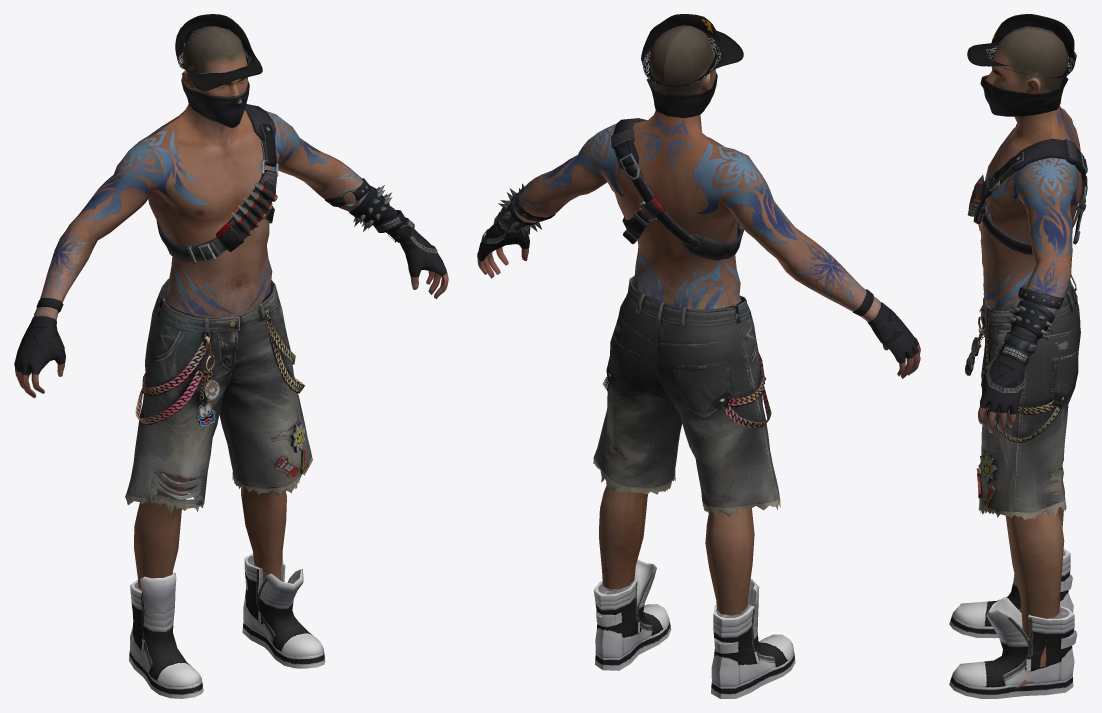
Rendered from rboy.glb.
The picture shows the model from 3 angles, left to right: view 1: azimuth 30°, elevation 25°; view 2: azimuth 150°, elevation 25°; view 3: azimuth 270°, elevation 25°; orthographic projection. The views are drawn at different scales.
Visible parts, largest first — view 1: rboy; view 2: rboy; view 3: rboy.
Boxes of the visible parts, x1,y1,x2,y2 form: rboy: [14, 14, 448, 698]; rboy: [477, 14, 920, 698]; rboy: [949, 14, 1087, 698].
Size of the model in its own units: 0.6315 by 0.9035 by 0.1773.
Materials: 8 (8 with a texture image).
